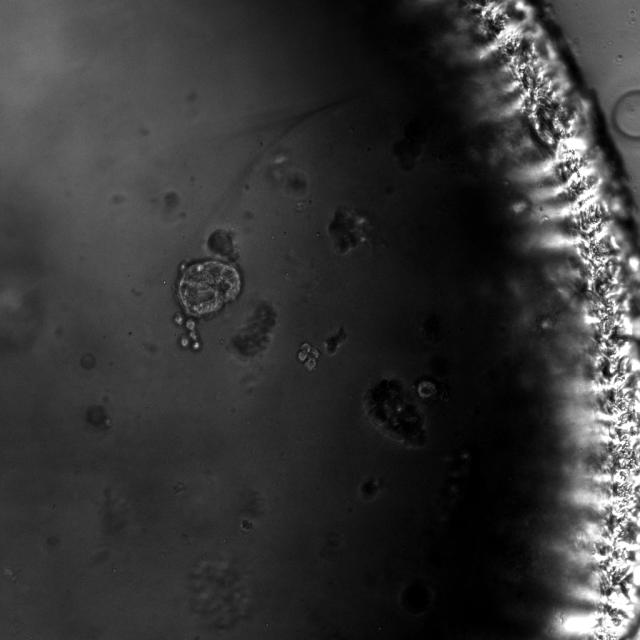organoid: (173, 258, 242, 351), (189, 556, 251, 629), (364, 379, 425, 448), (232, 301, 276, 357), (328, 206, 369, 254), (207, 229, 239, 261), (297, 342, 319, 370), (86, 405, 109, 430), (359, 477, 381, 501), (417, 379, 437, 400), (80, 353, 96, 369)
